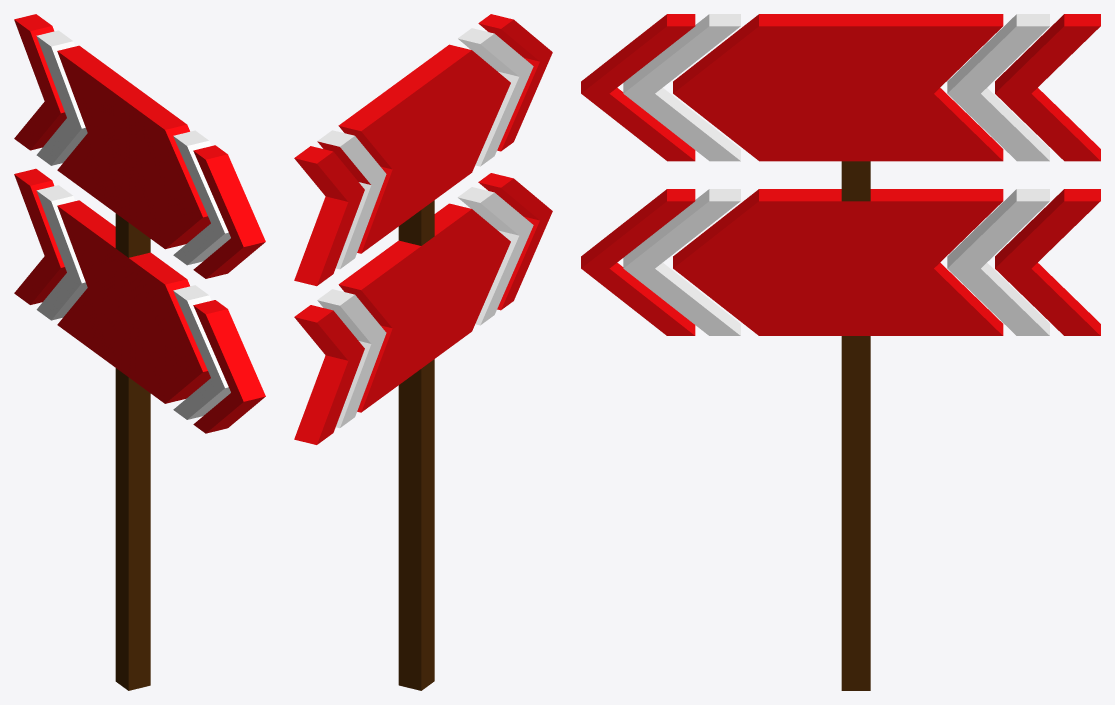
File: Left.fbx
The picture shows the model from 3 angles, left to right: view 1: azimuth 30°, elevation 25°; view 2: azimuth 150°, elevation 25°; view 3: azimuth 270°, elevation 25°; orthographic projection. The views are drawn at different scales.
Parts seen in each view (by area): view 1: Cube; view 2: Cube; view 3: Cube.
Boxes of the visible parts, x1,y1,x2,y2 form: Cube: (14,14,265,690); Cube: (294,14,552,690); Cube: (581,14,1100,690).
Size of the model in its own units: 51.22 by 1296 by 918.
